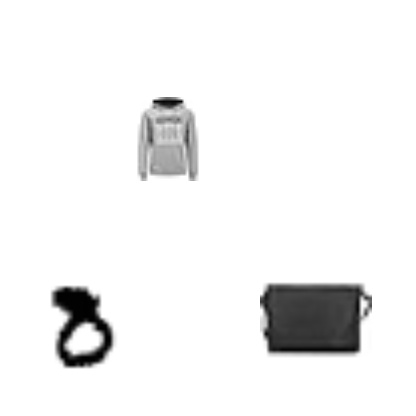0: (385, 127, 413, 155)
3: (133, 189, 155, 211)
5: (260, 374, 274, 388)
7: (179, 280, 263, 364), (223, 189, 279, 245)
Bag: (72, 188, 128, 244)
Pullover: (85, 308, 169, 392)
Shirt: (121, 263, 163, 305), (36, 90, 78, 132)
